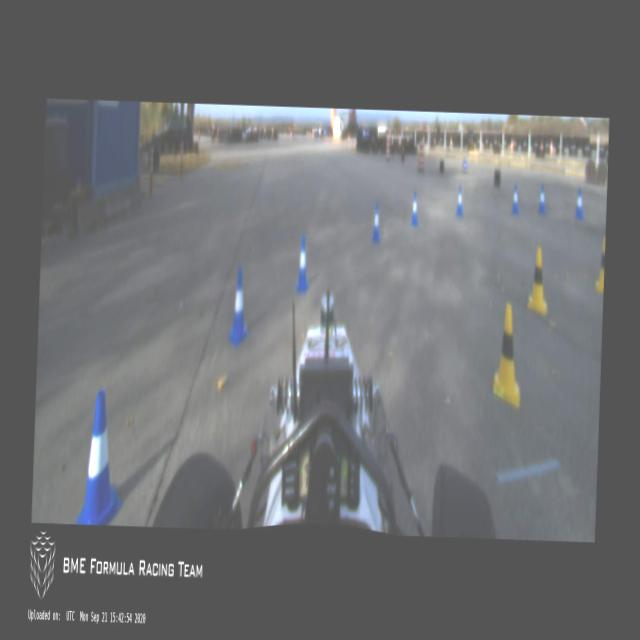blue_cone: (75, 388, 125, 524), (228, 269, 251, 348), (294, 237, 310, 290), (371, 202, 381, 240), (572, 188, 584, 218), (536, 184, 548, 213), (409, 190, 419, 224), (510, 182, 520, 214), (454, 185, 464, 216)
yellow_cone: (493, 304, 523, 406), (526, 248, 548, 312), (594, 234, 605, 294)
